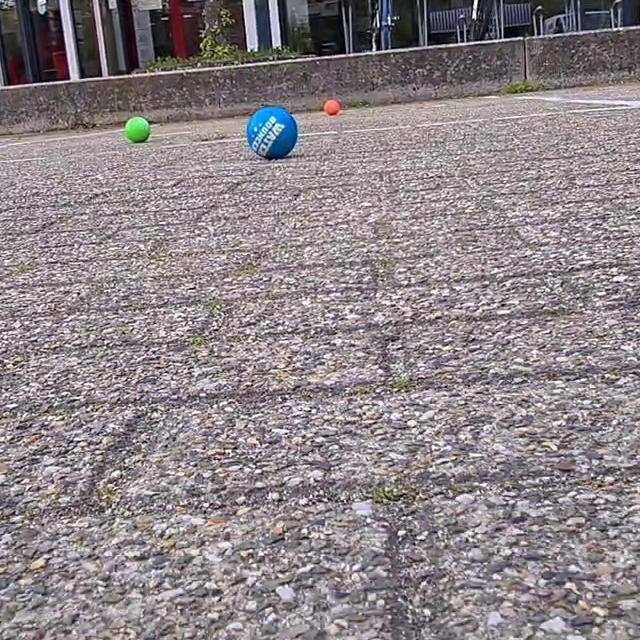ball: (122, 117, 150, 146)
